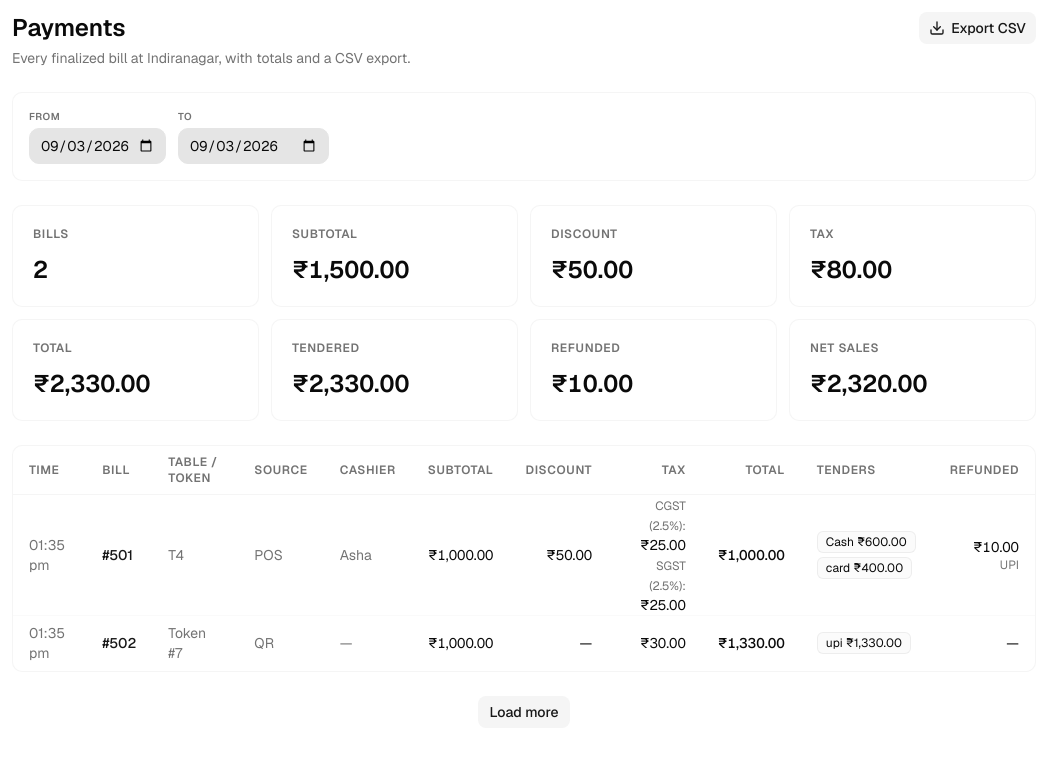
it: Payments › Load more appends rows using nextCursor and reflects the new page's totals
Expected: the row with test id "payments-row-bill-1" is shown, [13,494,1035,615]
Click the button with test id "payments-load-more" at (524, 712), box [478,696,570,728]
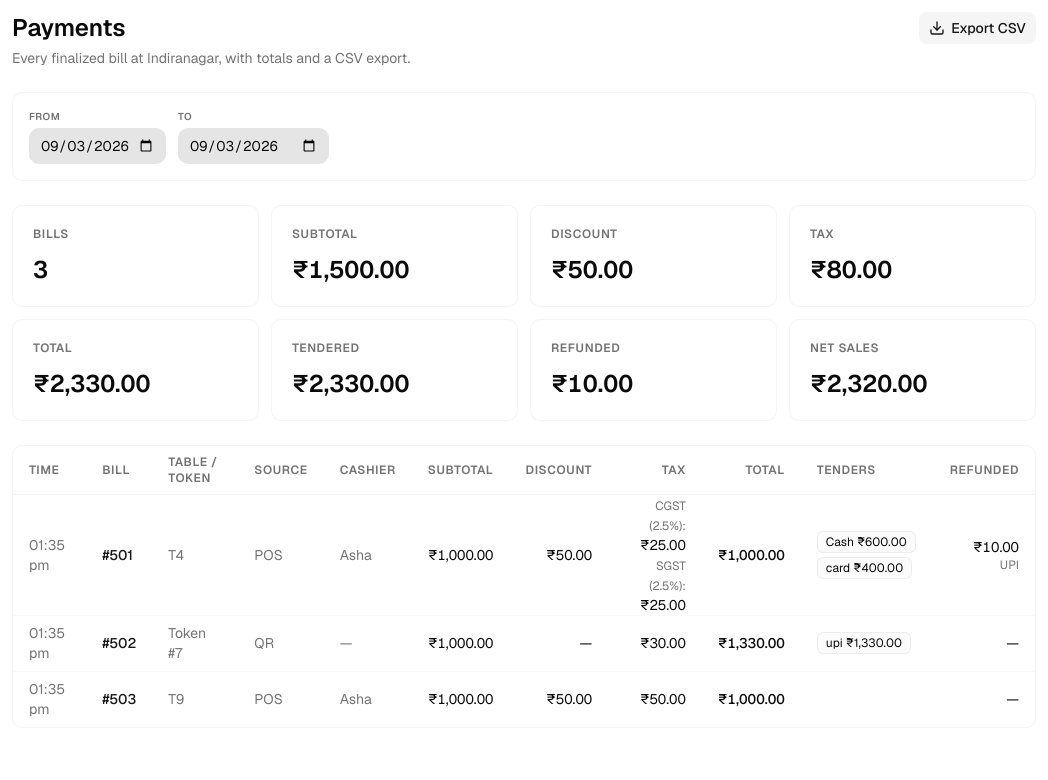
Expected: the row with test id "payments-row-bill-3" is shown, [13,671,1035,727]
Expected: the button with test id "payments-load-more" is gone
Expected: the element with test id "payments-totals-count" shows "3", [33,254,48,285]
